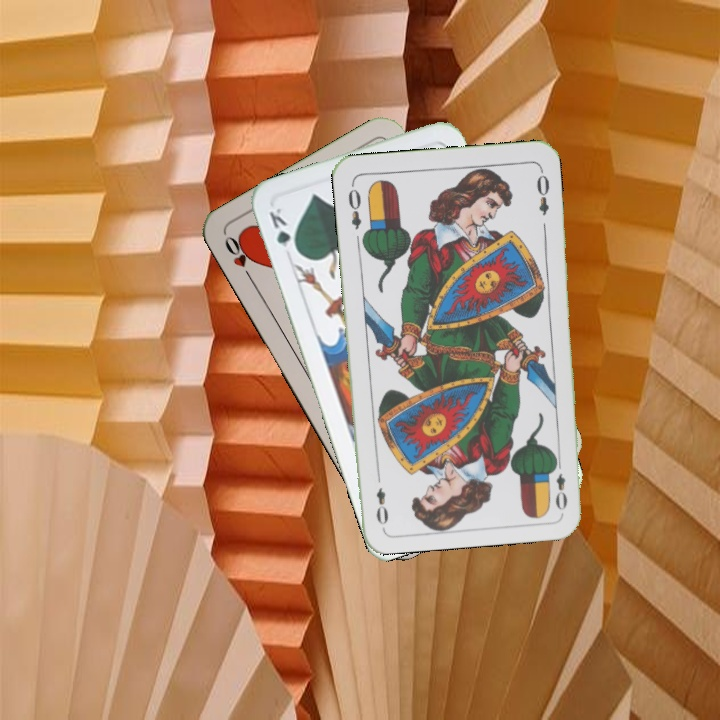EO: (549, 454, 570, 513), (344, 180, 364, 232)
GK: (265, 204, 301, 257)
HO: (220, 231, 256, 285)
